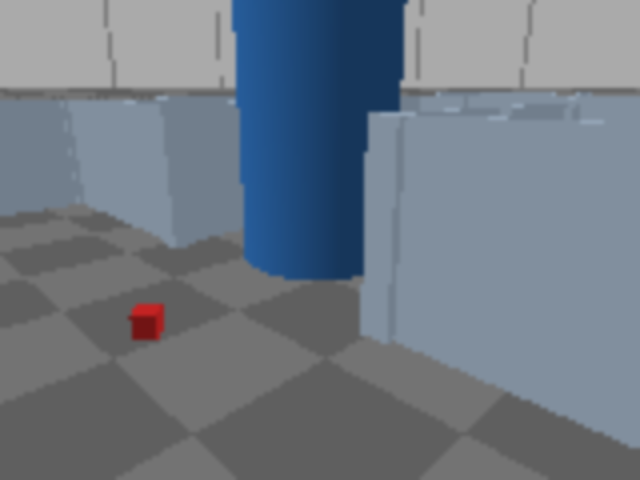puck: (129, 304, 165, 340)
